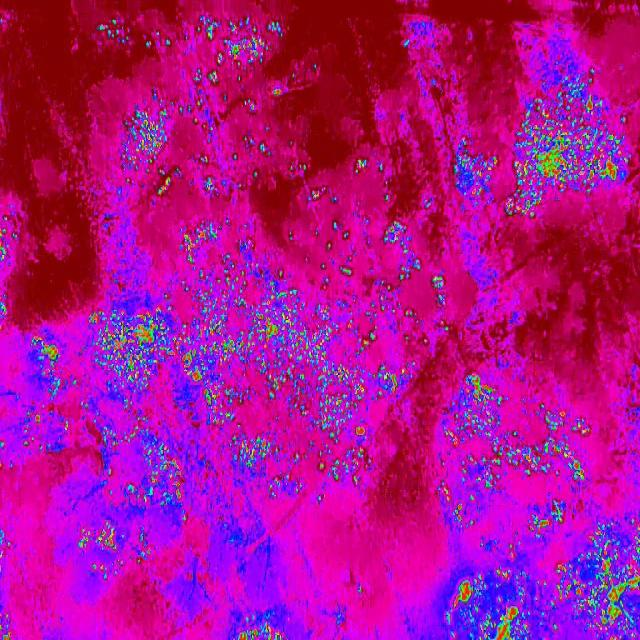fire: (29, 310, 382, 518), (440, 376, 588, 530), (505, 67, 633, 219), (442, 558, 640, 638), (165, 221, 306, 309), (118, 98, 188, 196), (196, 15, 282, 81), (74, 526, 154, 582), (451, 143, 498, 207), (382, 218, 429, 278), (580, 518, 640, 558), (226, 609, 292, 640), (382, 356, 420, 402), (92, 15, 131, 44), (432, 272, 448, 310), (0, 214, 9, 262), (353, 155, 369, 176), (0, 291, 10, 319)
